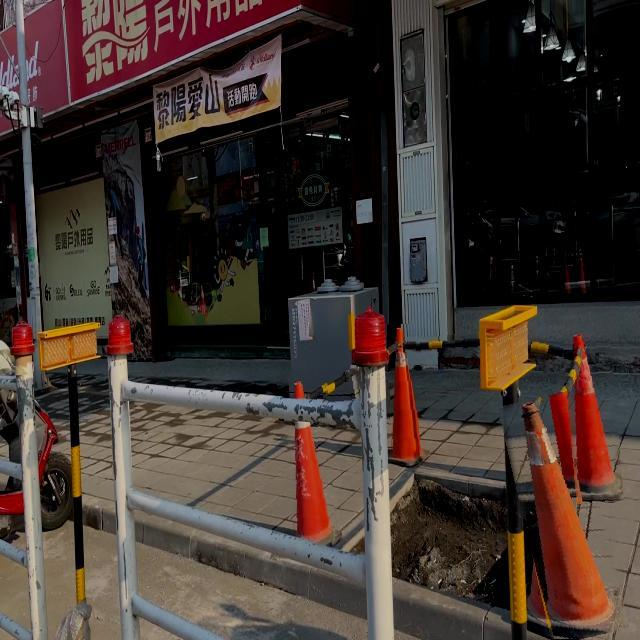bike: (0, 299, 74, 634), (0, 325, 73, 548)
traffic cone: (520, 400, 615, 632), (565, 334, 624, 502), (293, 420, 338, 546), (387, 329, 423, 467), (549, 384, 584, 506), (293, 380, 305, 400)
